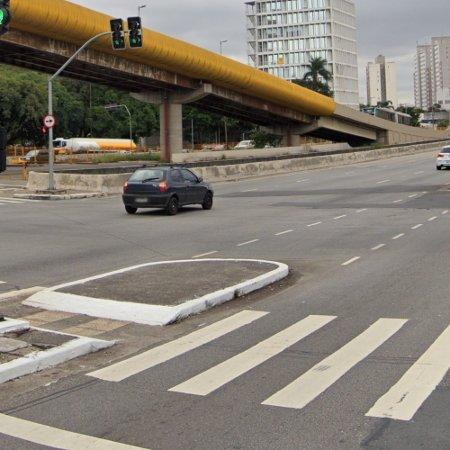crosswalks: (88, 308, 450, 424)
